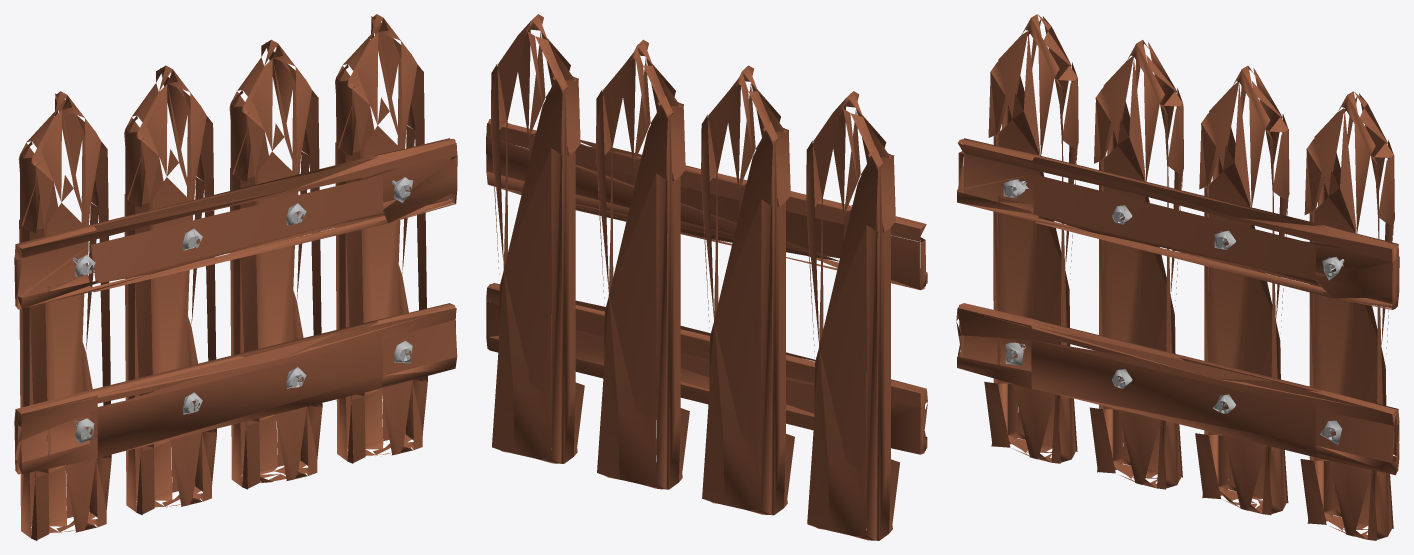
The model's file is picket_fence.glb.
3 views of the same model, side by side, from view 1: azimuth 30°, elevation 25°; view 2: azimuth 150°, elevation 25°; view 3: azimuth 330°, elevation 25° (orthographic).
Visible parts, largest first — view 1: picket_fence; view 2: picket_fence; view 3: picket_fence.
Part boxes in pixels (<box>): picket_fence: <box>14,14,457,540</box>; picket_fence: <box>486,14,927,540</box>; picket_fence: <box>956,14,1399,540</box>.
Bounding box in the file's own units: 3.92 × 3.73 × 0.5209.
